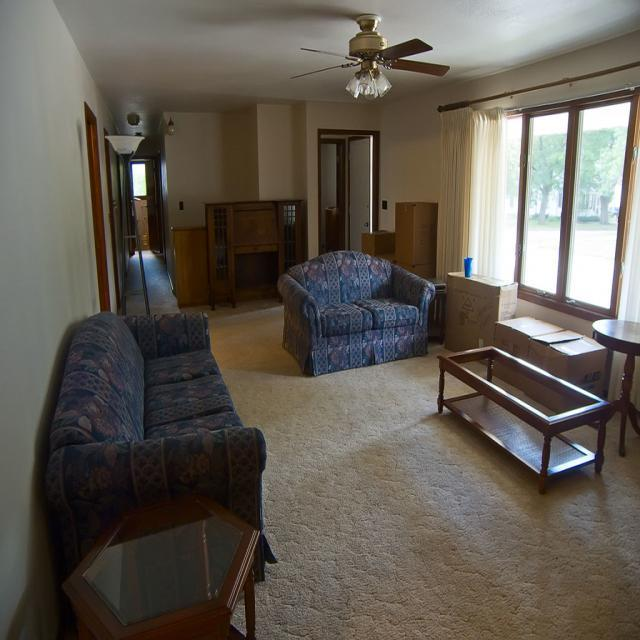bulb_off: (373, 76, 394, 95), (348, 74, 365, 96), (362, 77, 377, 96)
fan_off: (291, 26, 447, 84)
